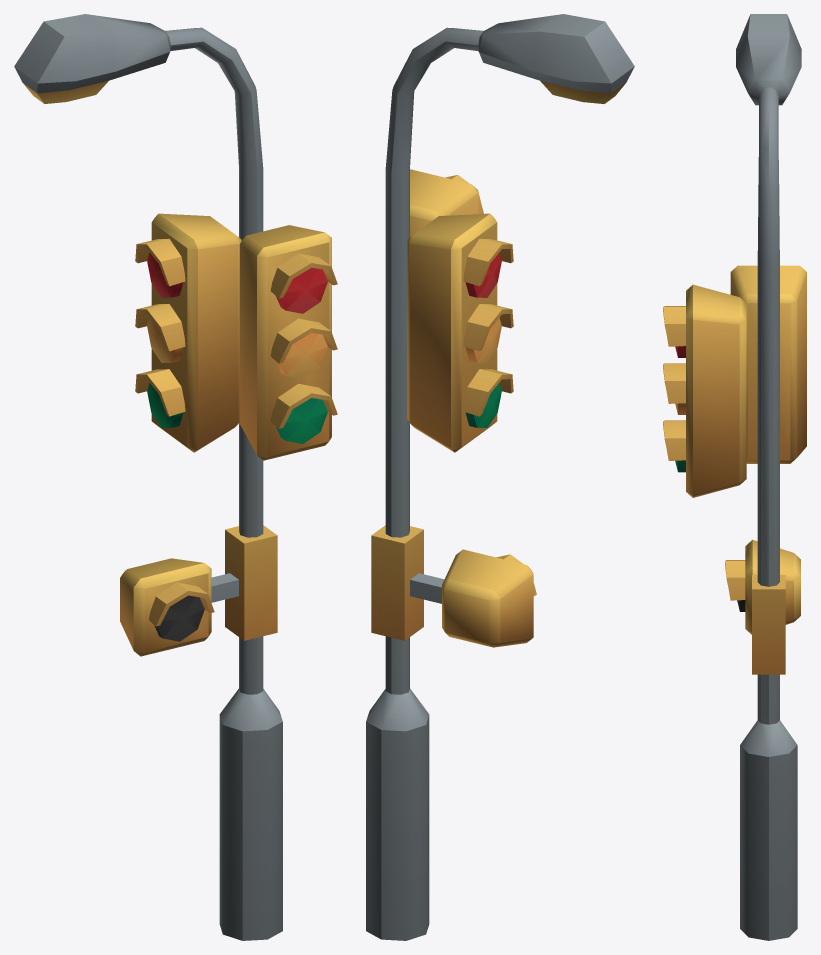
File: Trafficlight B-transformed.glb
The picture shows the model from 3 angles, left to right: view 1: azimuth 30°, elevation 25°; view 2: azimuth 150°, elevation 25°; view 3: azimuth 270°, elevation 25°; orthographic projection. The views are drawn at different scales.
Visible parts, largest first — view 1: trafficlight_B; view 2: trafficlight_B; view 3: trafficlight_B.
Boxes of the visible parts, bbox=[...] form: trafficlight_B: bbox=[14, 14, 337, 940]; trafficlight_B: bbox=[366, 14, 634, 940]; trafficlight_B: bbox=[663, 14, 806, 940].
Bounding box in the file's own units: 0.2791 × 0.9599 × 0.1506.
1 material, 1 textured.
